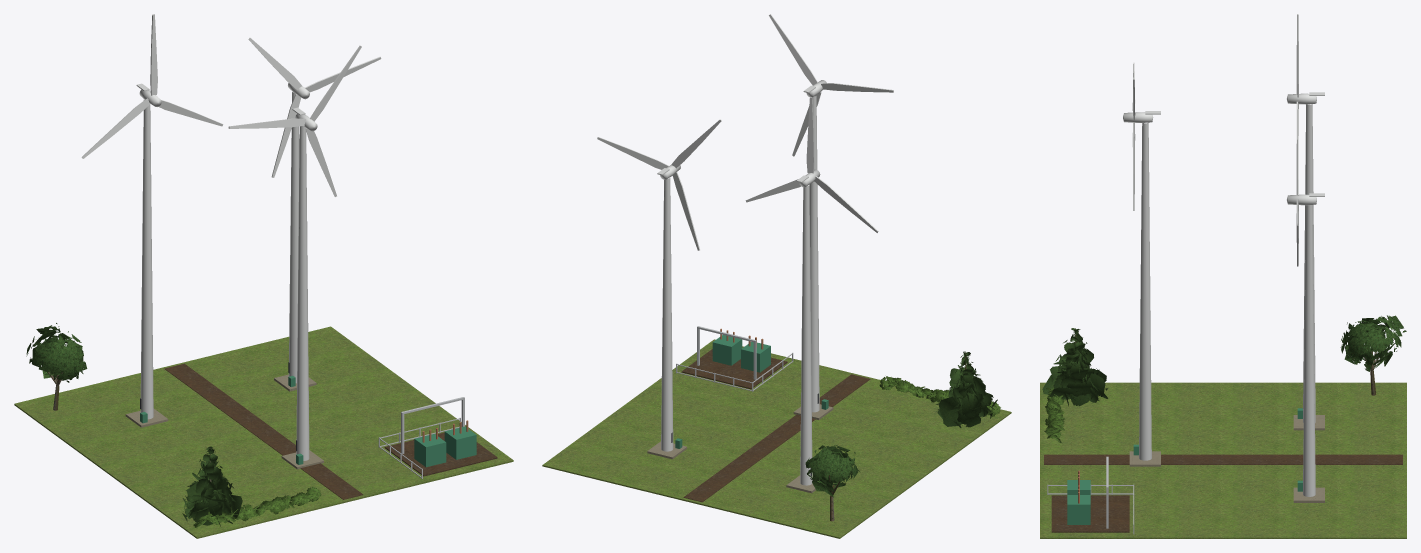
File: wind_farm.glb
3 renders of one model, left to right at view 1: azimuth 30°, elevation 25°; view 2: azimuth 150°, elevation 25°; view 3: azimuth 270°, elevation 25°, orthographic. The views are drawn at different scales.
Visible parts, largest first — view 1: wind_farm_body, wind_farm_foliage, Rotor_2, Rotor_0, Rotor_1; view 2: wind_farm_body, wind_farm_foliage, Rotor_1, Rotor_0, Rotor_2; view 3: wind_farm_body, wind_farm_foliage.
Part boxes in pixels (left/top/right/bottom): wind_farm_body: left=14, top=83, right=513, bottom=538; wind_farm_foliage: left=26, top=323, right=321, bottom=527; Rotor_2: left=228, top=45, right=361, bottom=196; Rotor_0: left=81, top=14, right=223, bottom=158; Rotor_1: left=248, top=38, right=381, bottom=177; wind_farm_body: left=542, top=80, right=1011, bottom=538; wind_farm_foliage: left=805, top=351, right=1000, bottom=497; Rotor_1: left=597, top=119, right=721, bottom=250; Rotor_0: left=745, top=97, right=878, bottom=232; Rotor_2: left=769, top=14, right=893, bottom=156; wind_farm_body: left=1040, top=92, right=1406, bottom=538; wind_farm_foliage: left=1042, top=315, right=1406, bottom=442.
Size of the model in its own units: 0.94 by 1.16 by 0.94.
Materials: 12 (7 with a texture image).
